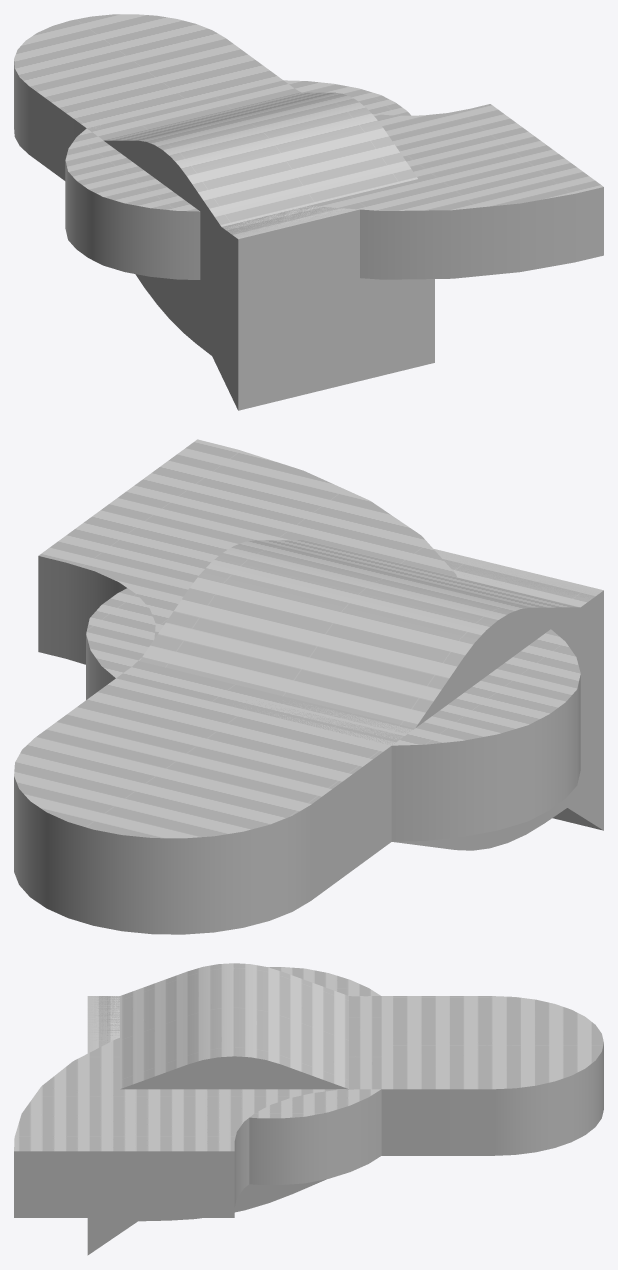
The model's file is Floor_2x3_HardEdge_thick.fbx.
3 renders of one model, top to bottom at view 1: azimuth 30°, elevation 25°; view 2: azimuth 150°, elevation 25°; view 3: azimuth 270°, elevation 25°, orthographic. The views are drawn at different scales.
Visible parts, largest first — view 1: Floor_2x3_HE_T_rotate, Floor_2x3_HE_T_hill, Floor_2x3_HE_T_cap, Floor_2x3_HE_T_circle, Floor_2x3_HE_T_ramp1, Floor_2x3_HE_T_ramp2, Floor_2x3_HE_T_deep2, Floor_2x3_HE_T_deep1; view 2: Floor_2x3_HE_T_cap, Floor_2x3_HE_T_hill, Floor_2x3_HE_T_rotate, Floor_2x3_HE_T_circle, Floor_2x3_HE_T_deep2, Floor_2x3_HE_T_ramp1, Floor_2x3_HE_T_main, Floor_2x3_HE_T_deep1, Floor_2x3_HE_T_ramp2; view 3: Floor_2x3_HE_T_rotate, Floor_2x3_HE_T_cap, Floor_2x3_HE_T_hill, Floor_2x3_HE_T_circle, Floor_2x3_HE_T_deep2, Floor_2x3_HE_T_ramp1, Floor_2x3_HE_T_ramp2, Floor_2x3_HE_T_deep1.
Part boxes in pixels (x1,y1,x2,y2): Floor_2x3_HE_T_rotate: (87, 80, 603, 279); Floor_2x3_HE_T_hill: (104, 92, 417, 306); Floor_2x3_HE_T_cap: (14, 14, 282, 180); Floor_2x3_HE_T_circle: (65, 80, 410, 279); Floor_2x3_HE_T_ramp1: (135, 274, 434, 375); Floor_2x3_HE_T_ramp2: (176, 264, 434, 410); Floor_2x3_HE_T_deep2: (200, 205, 359, 307); Floor_2x3_HE_T_deep1: (176, 206, 359, 307); Floor_2x3_HE_T_cap: (14, 678, 391, 934); Floor_2x3_HE_T_hill: (139, 540, 603, 728); Floor_2x3_HE_T_rotate: (38, 439, 456, 744); Floor_2x3_HE_T_circle: (86, 588, 580, 841); Floor_2x3_HE_T_deep2: (433, 548, 603, 701); Floor_2x3_HE_T_ramp1: (393, 687, 603, 850); Floor_2x3_HE_T_main: (242, 700, 414, 745); Floor_2x3_HE_T_deep1: (439, 554, 603, 701); Floor_2x3_HE_T_ramp2: (552, 728, 603, 830); Floor_2x3_HE_T_rotate: (14, 996, 381, 1217); Floor_2x3_HE_T_cap: (381, 996, 603, 1155); Floor_2x3_HE_T_hill: (87, 963, 348, 1089); Floor_2x3_HE_T_circle: (249, 967, 381, 1184); Floor_2x3_HE_T_deep2: (87, 996, 119, 1052); Floor_2x3_HE_T_ramp1: (138, 1179, 326, 1221); Floor_2x3_HE_T_ramp2: (87, 1218, 142, 1255); Floor_2x3_HE_T_deep1: (87, 999, 265, 1188).
Bounding box in the file's own units: 594 × 299 × 803.
